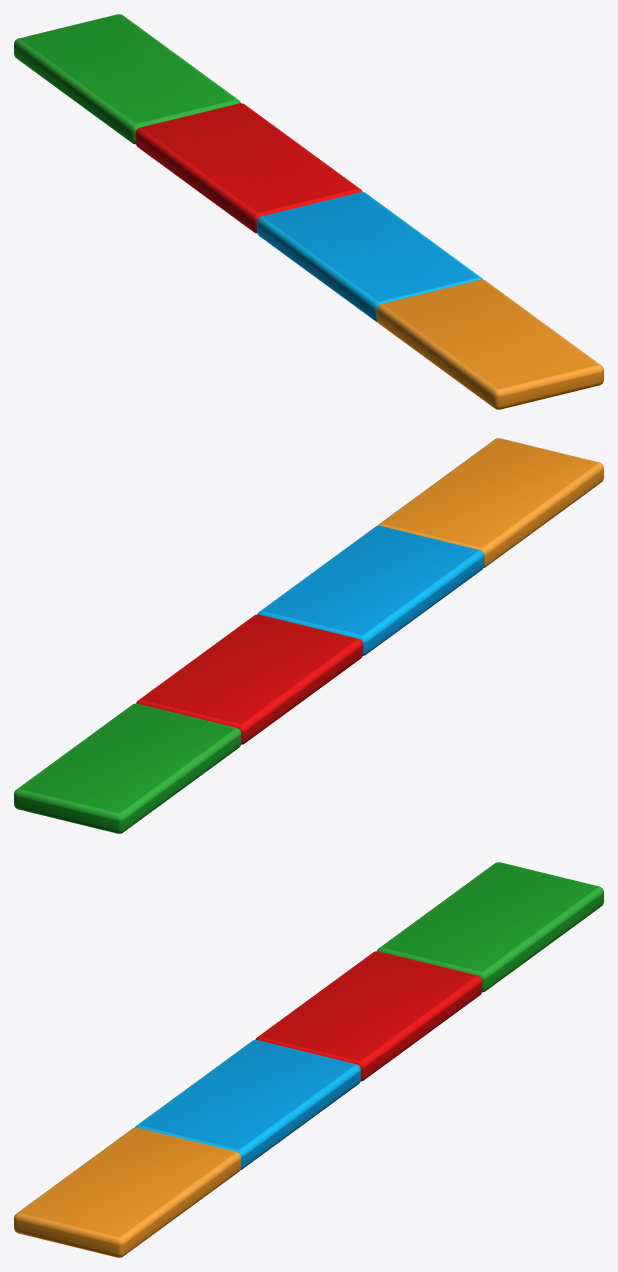
Rendered from baby_boss_kopru.fbx.
The picture shows the model from 3 angles, top to bottom: view 1: azimuth 30°, elevation 25°; view 2: azimuth 150°, elevation 25°; view 3: azimuth 330°, elevation 25°; orthographic projection.
Parts seen in each view (by area): view 1: baby_boss_kopru.003; view 2: baby_boss_kopru.003; view 3: baby_boss_kopru.003.
Part boxes in pixels (x1,y1,x2,y2): baby_boss_kopru.003: (14,14,603,409); baby_boss_kopru.003: (14,438,603,833); baby_boss_kopru.003: (14,862,603,1257).
Size of the model in its own units: 0.6502 by 0.114 by 4.97.
